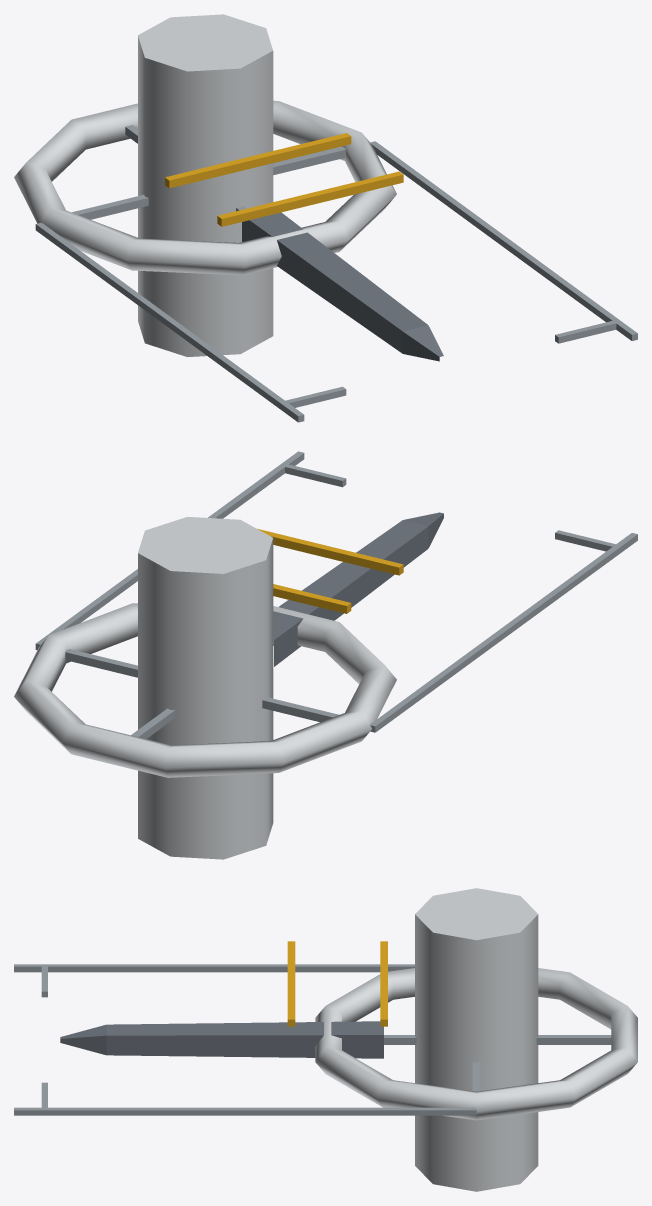
File: space_orbital_shipyard_t2_lod1.glb
3 renders of one model, top to bottom at view 1: azimuth 30°, elevation 25°; view 2: azimuth 150°, elevation 25°; view 3: azimuth 270°, elevation 25°, orthographic. The views are drawn at different scales.
Parts seen in each view (by area): view 1: body, ring, dock_arm_0, dock_arm_1, crane_0, crane_1; view 2: body, ring, dock_arm_0, dock_arm_1, crane_1, crane_0; view 3: body, ring, dock_arm_1, dock_arm_0, crane_1, crane_0.
Boxes of the visible parts, x1,y1,x2,y2 form: body: [138, 14, 443, 361]; ring: [14, 100, 396, 275]; dock_arm_0: [35, 223, 346, 422]; dock_arm_1: [370, 141, 637, 343]; crane_0: [165, 133, 351, 188]; crane_1: [217, 171, 403, 226]; body: [138, 512, 443, 859]; ring: [14, 603, 396, 777]; dock_arm_0: [370, 530, 637, 732]; dock_arm_1: [35, 451, 346, 649]; crane_1: [257, 528, 403, 575]; crane_0: [273, 584, 351, 613]; body: [60, 888, 538, 1191]; ring: [315, 968, 637, 1120]; dock_arm_1: [14, 1082, 476, 1115]; dock_arm_0: [14, 964, 414, 997]; crane_1: [287, 941, 295, 1026]; crane_0: [380, 941, 387, 1026].
Bounding box in the file's own units: 22.4 × 18 × 40.46.
